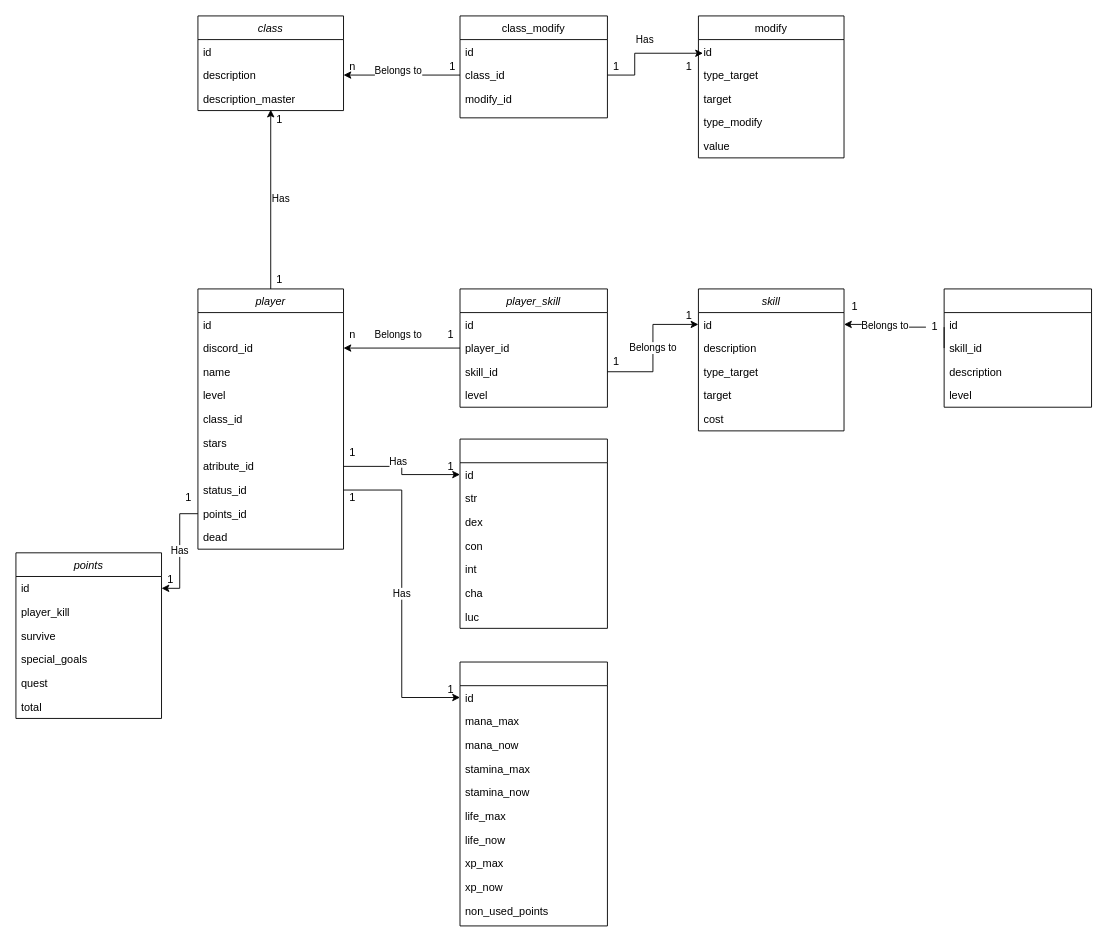
Some shapes in this 1107 by 942 pixel diagram are drawn without their labels. Each missing label, with the box of its shape:
atribute: (459, 438, 607, 628)
skill_level: (943, 288, 1092, 407)
status: (459, 661, 607, 926)
